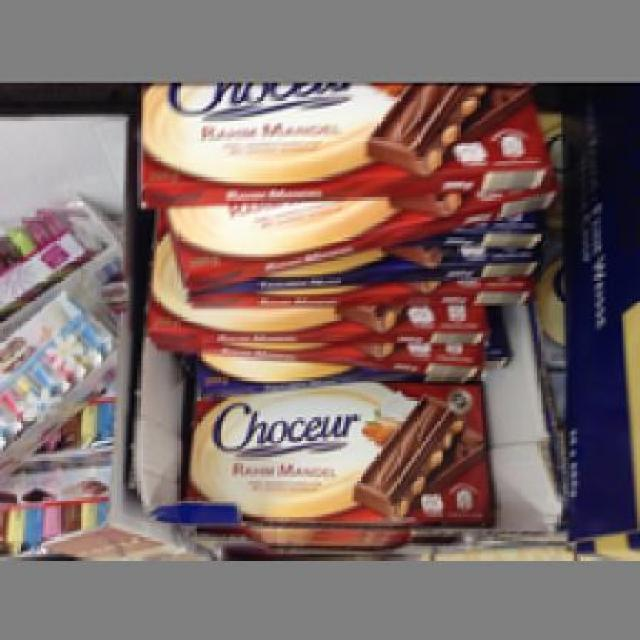Chocolate: (134, 81, 560, 205), (183, 377, 492, 526)
